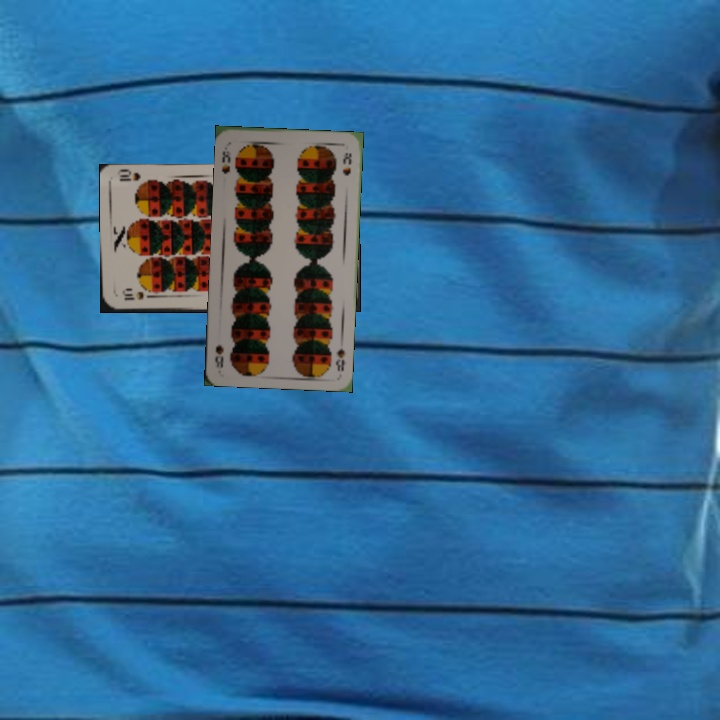S10: (119, 288, 155, 302)
S8: (218, 141, 234, 176), (332, 344, 347, 373)
